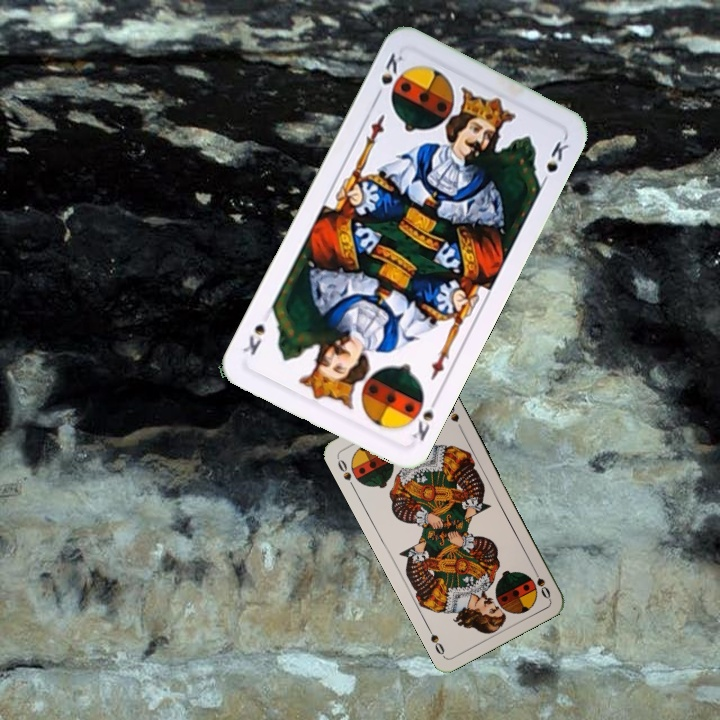SK: (370, 48, 406, 103), (408, 392, 441, 444)
SO: (333, 454, 358, 492), (529, 563, 553, 601)
